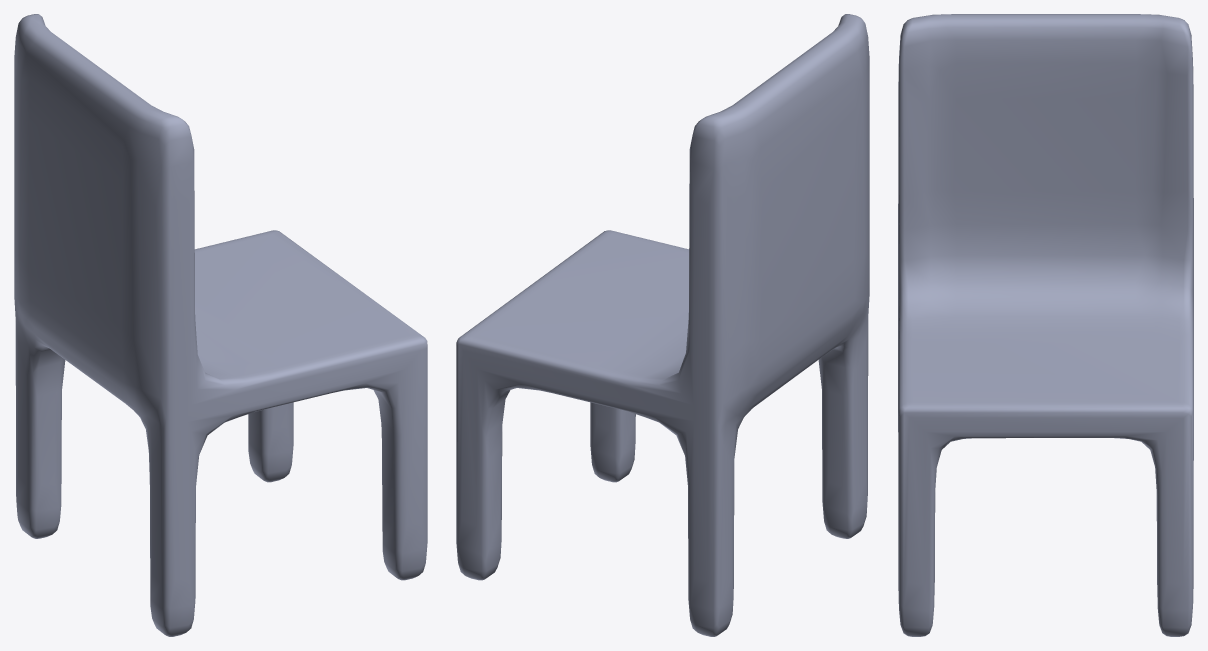
The model's file is chair.fbx.
3 views of the same model, side by side, from view 1: azimuth 30°, elevation 25°; view 2: azimuth 150°, elevation 25°; view 3: azimuth 270°, elevation 25° (orthographic). The views are drawn at different scales.
Parts seen in each view (by area): view 1: Cube; view 2: Cube; view 3: Cube.
Boxes of the visible parts, <box> form: Cube: <box>14,14,427,636</box>; Cube: <box>456,14,869,636</box>; Cube: <box>898,14,1193,636</box>.
Bounding box in the file's own units: 26.3 × 46.8 × 25.
